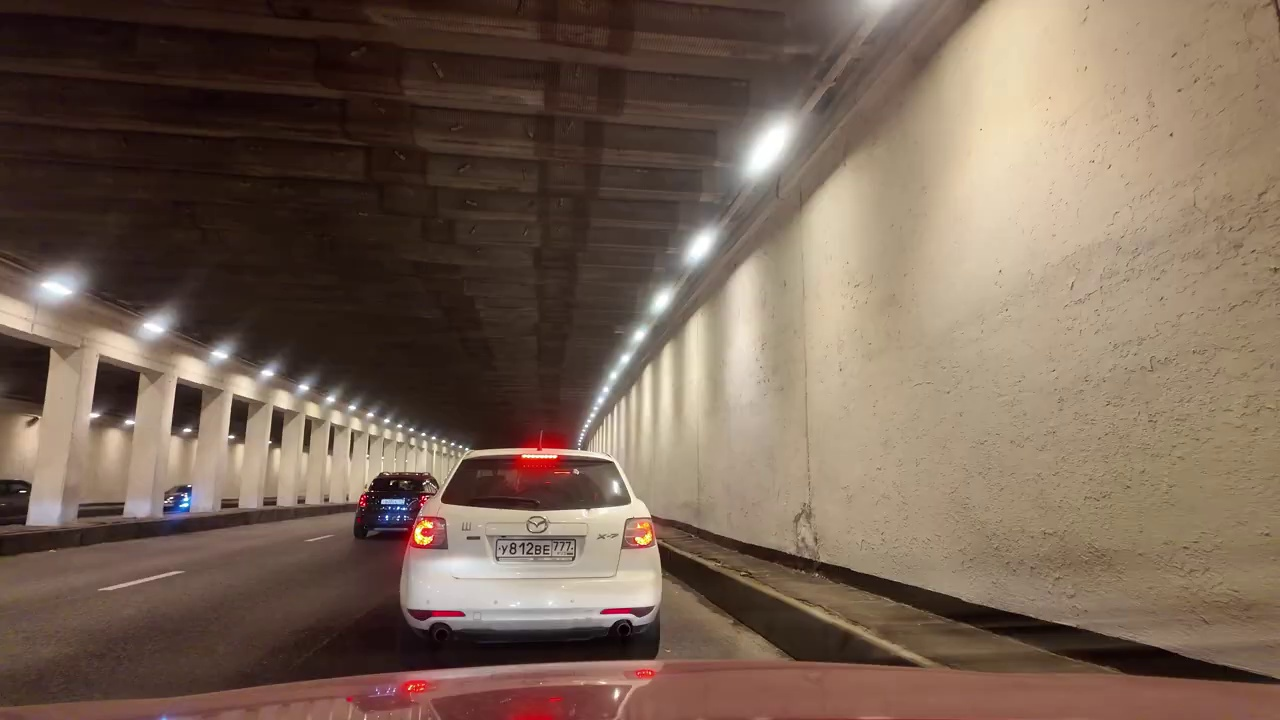acesa: (743, 116, 800, 173), (34, 268, 86, 310), (681, 224, 716, 262)
